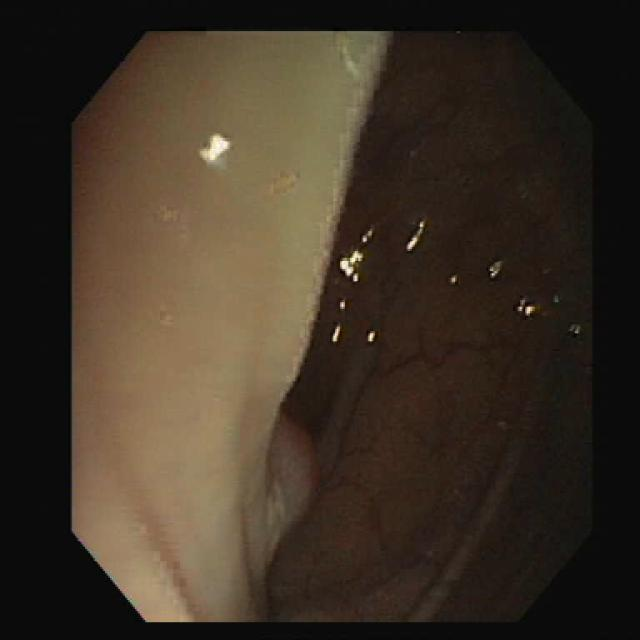tumor: (268, 418, 315, 542)
